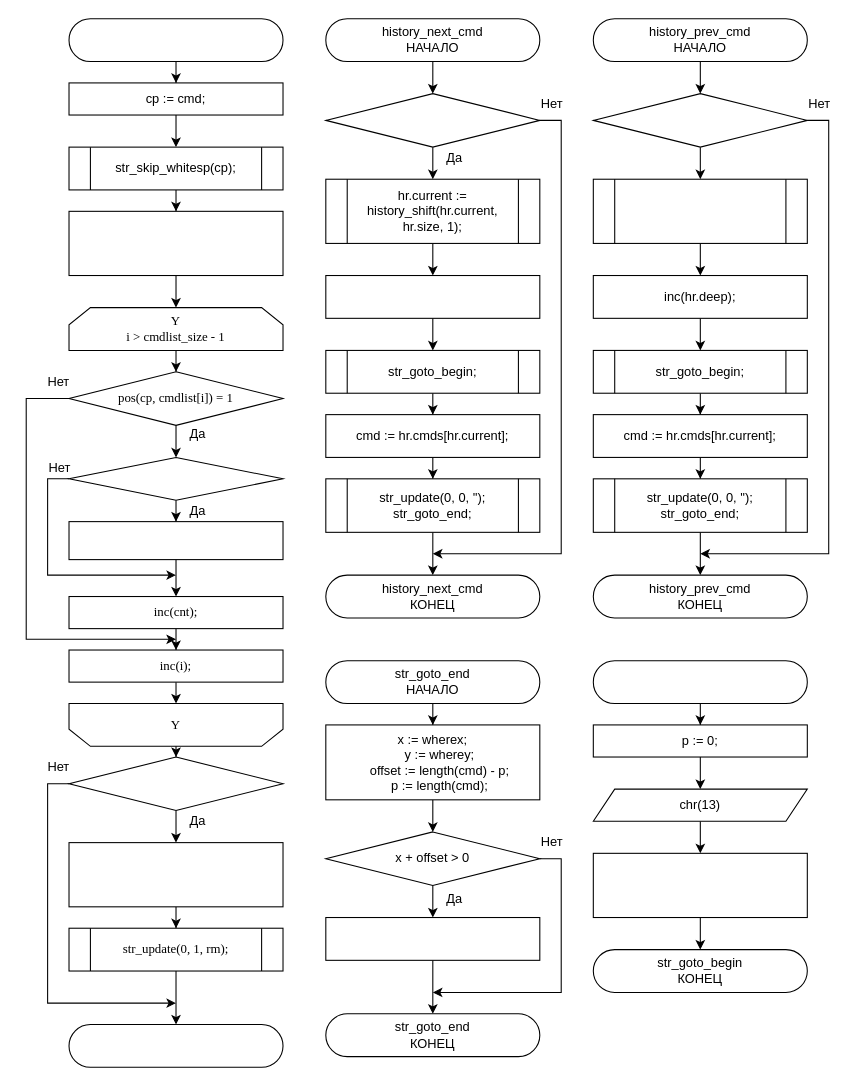
This 856x1086 diagram has some shape labels left out. The centre of each missing label's shape, as x and y in pixels:
"cnt = 1" belongs at (175,783).
"dec(hr.deep);" belongs at (432,296).
"gotoxy(x + offset, y);" belongs at (432,938).
"hr.current := history_shift(hr.current, hr.size, -1);" belongs at (699,210).
"hr.deep < hr.size - 1" belongs at (699,120).
"hr.deep > 0" belongs at (432,120).
"k := i" belongs at (175,540).
"k = -1" belongs at (175,478).
"offset := length(cmd) - length(cp); cnt := 0; k := -1; i := 0" belongs at (175,243).
"pc := 1; rm := copy(cmdlist[k], length(cp)+1, length(cmdlist[k]));" belongs at (175,874).
"str_goto_begin НАЧАЛО" belongs at (699,682).
"str_pre_complete КОНЕЦ" belongs at (175,1045).
"str_pre_complete НАЧАЛО" belongs at (175,40).
"x := wherex; y := wherey; gotoxy(x + length(st), y);" belongs at (699,885).
